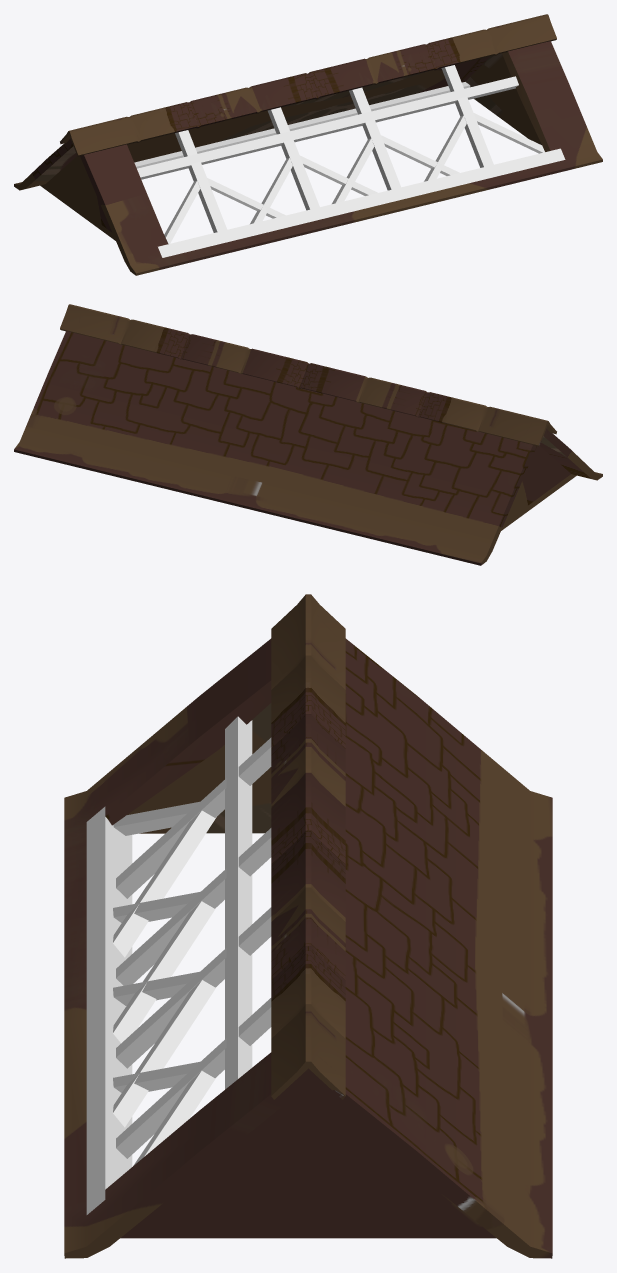
The model's file is Roof2.fbx.
3 renders of one model, top to bottom at view 1: azimuth 30°, elevation 25°; view 2: azimuth 150°, elevation 25°; view 3: azimuth 270°, elevation 25°, orthographic. The views are drawn at different scales.
Parts seen in each view (by area): view 1: roof, rooftile, Angled_Beam, Angled_SmallBeam, BackBeam.001, LargeBeam, BackBeam; view 2: roof, rooftile; view 3: roof, rooftile, Angled_SmallBeam, Angled_Beam, BackBeam.001, LargeBeam.
Boxes of the visible parts, left/top/right/bottom form: roof: left=14, top=41, right=602, bottom=275; rooftile: left=60, top=14, right=556, bottom=156; Angled_Beam: left=175, top=65, right=493, bottom=232; Angled_SmallBeam: left=164, top=113, right=544, bottom=243; BackBeam.001: left=158, top=148, right=565, bottom=257; LargeBeam: left=137, top=76, right=518, bottom=179; BackBeam: left=134, top=82, right=470, bottom=168; roof: left=14, top=331, right=602, bottom=565; rooftile: left=60, top=304, right=556, bottom=446; roof: left=64, top=638, right=552, bottom=1258; rooftile: left=271, top=594, right=345, bottom=1099; Angled_SmallBeam: left=113, top=801, right=216, bottom=1165; Angled_Beam: left=116, top=737, right=271, bottom=1158; BackBeam.001: left=86, top=806, right=132, bottom=1214; LargeBeam: left=225, top=716, right=252, bottom=1089.
Bounding box in the file's own units: 4965 × 1073 × 2193.
